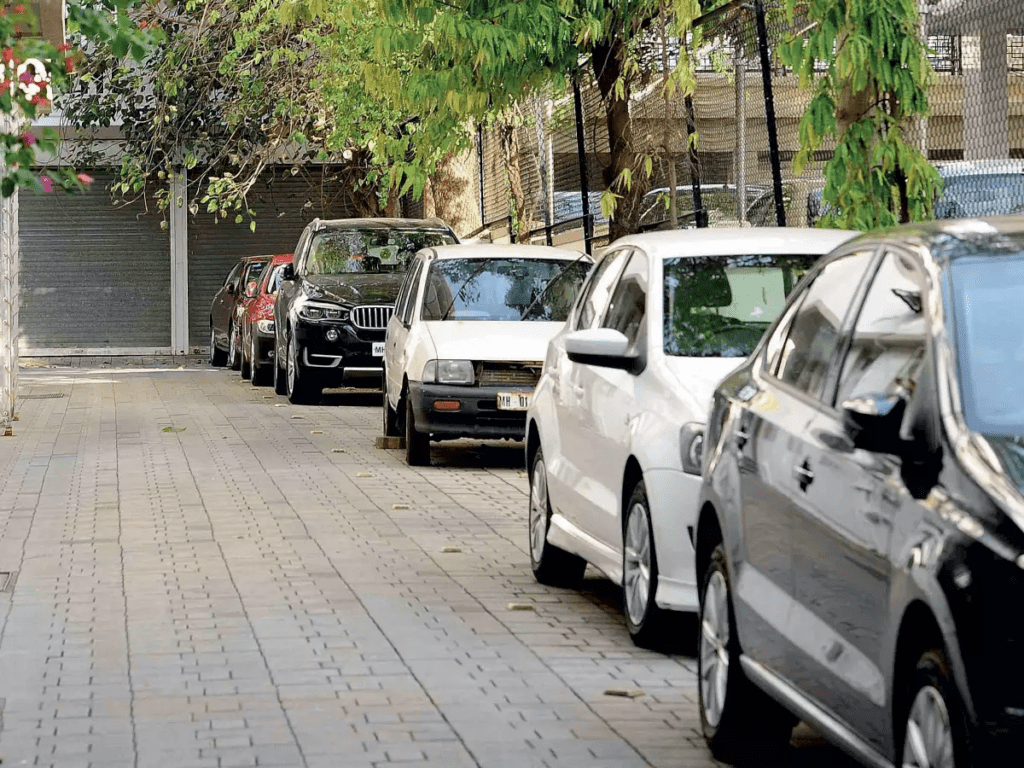Car: (674, 212, 1024, 764), (517, 217, 860, 667), (378, 232, 609, 472), (277, 210, 488, 413)
